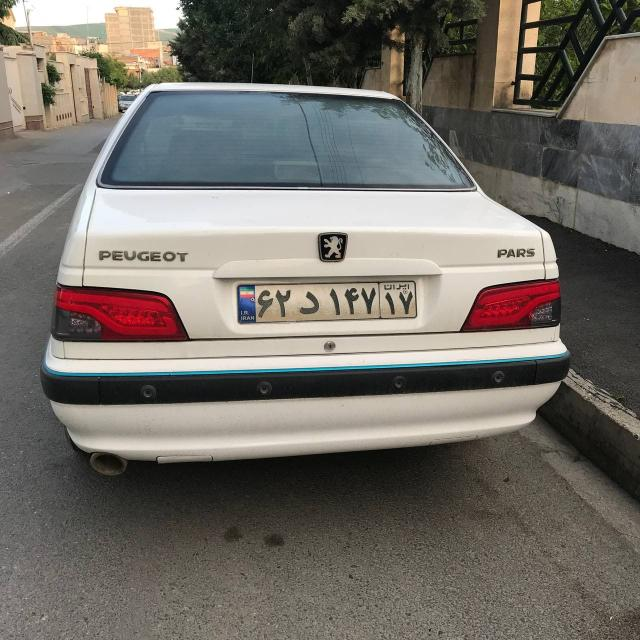Plates: (238, 279, 417, 323)
